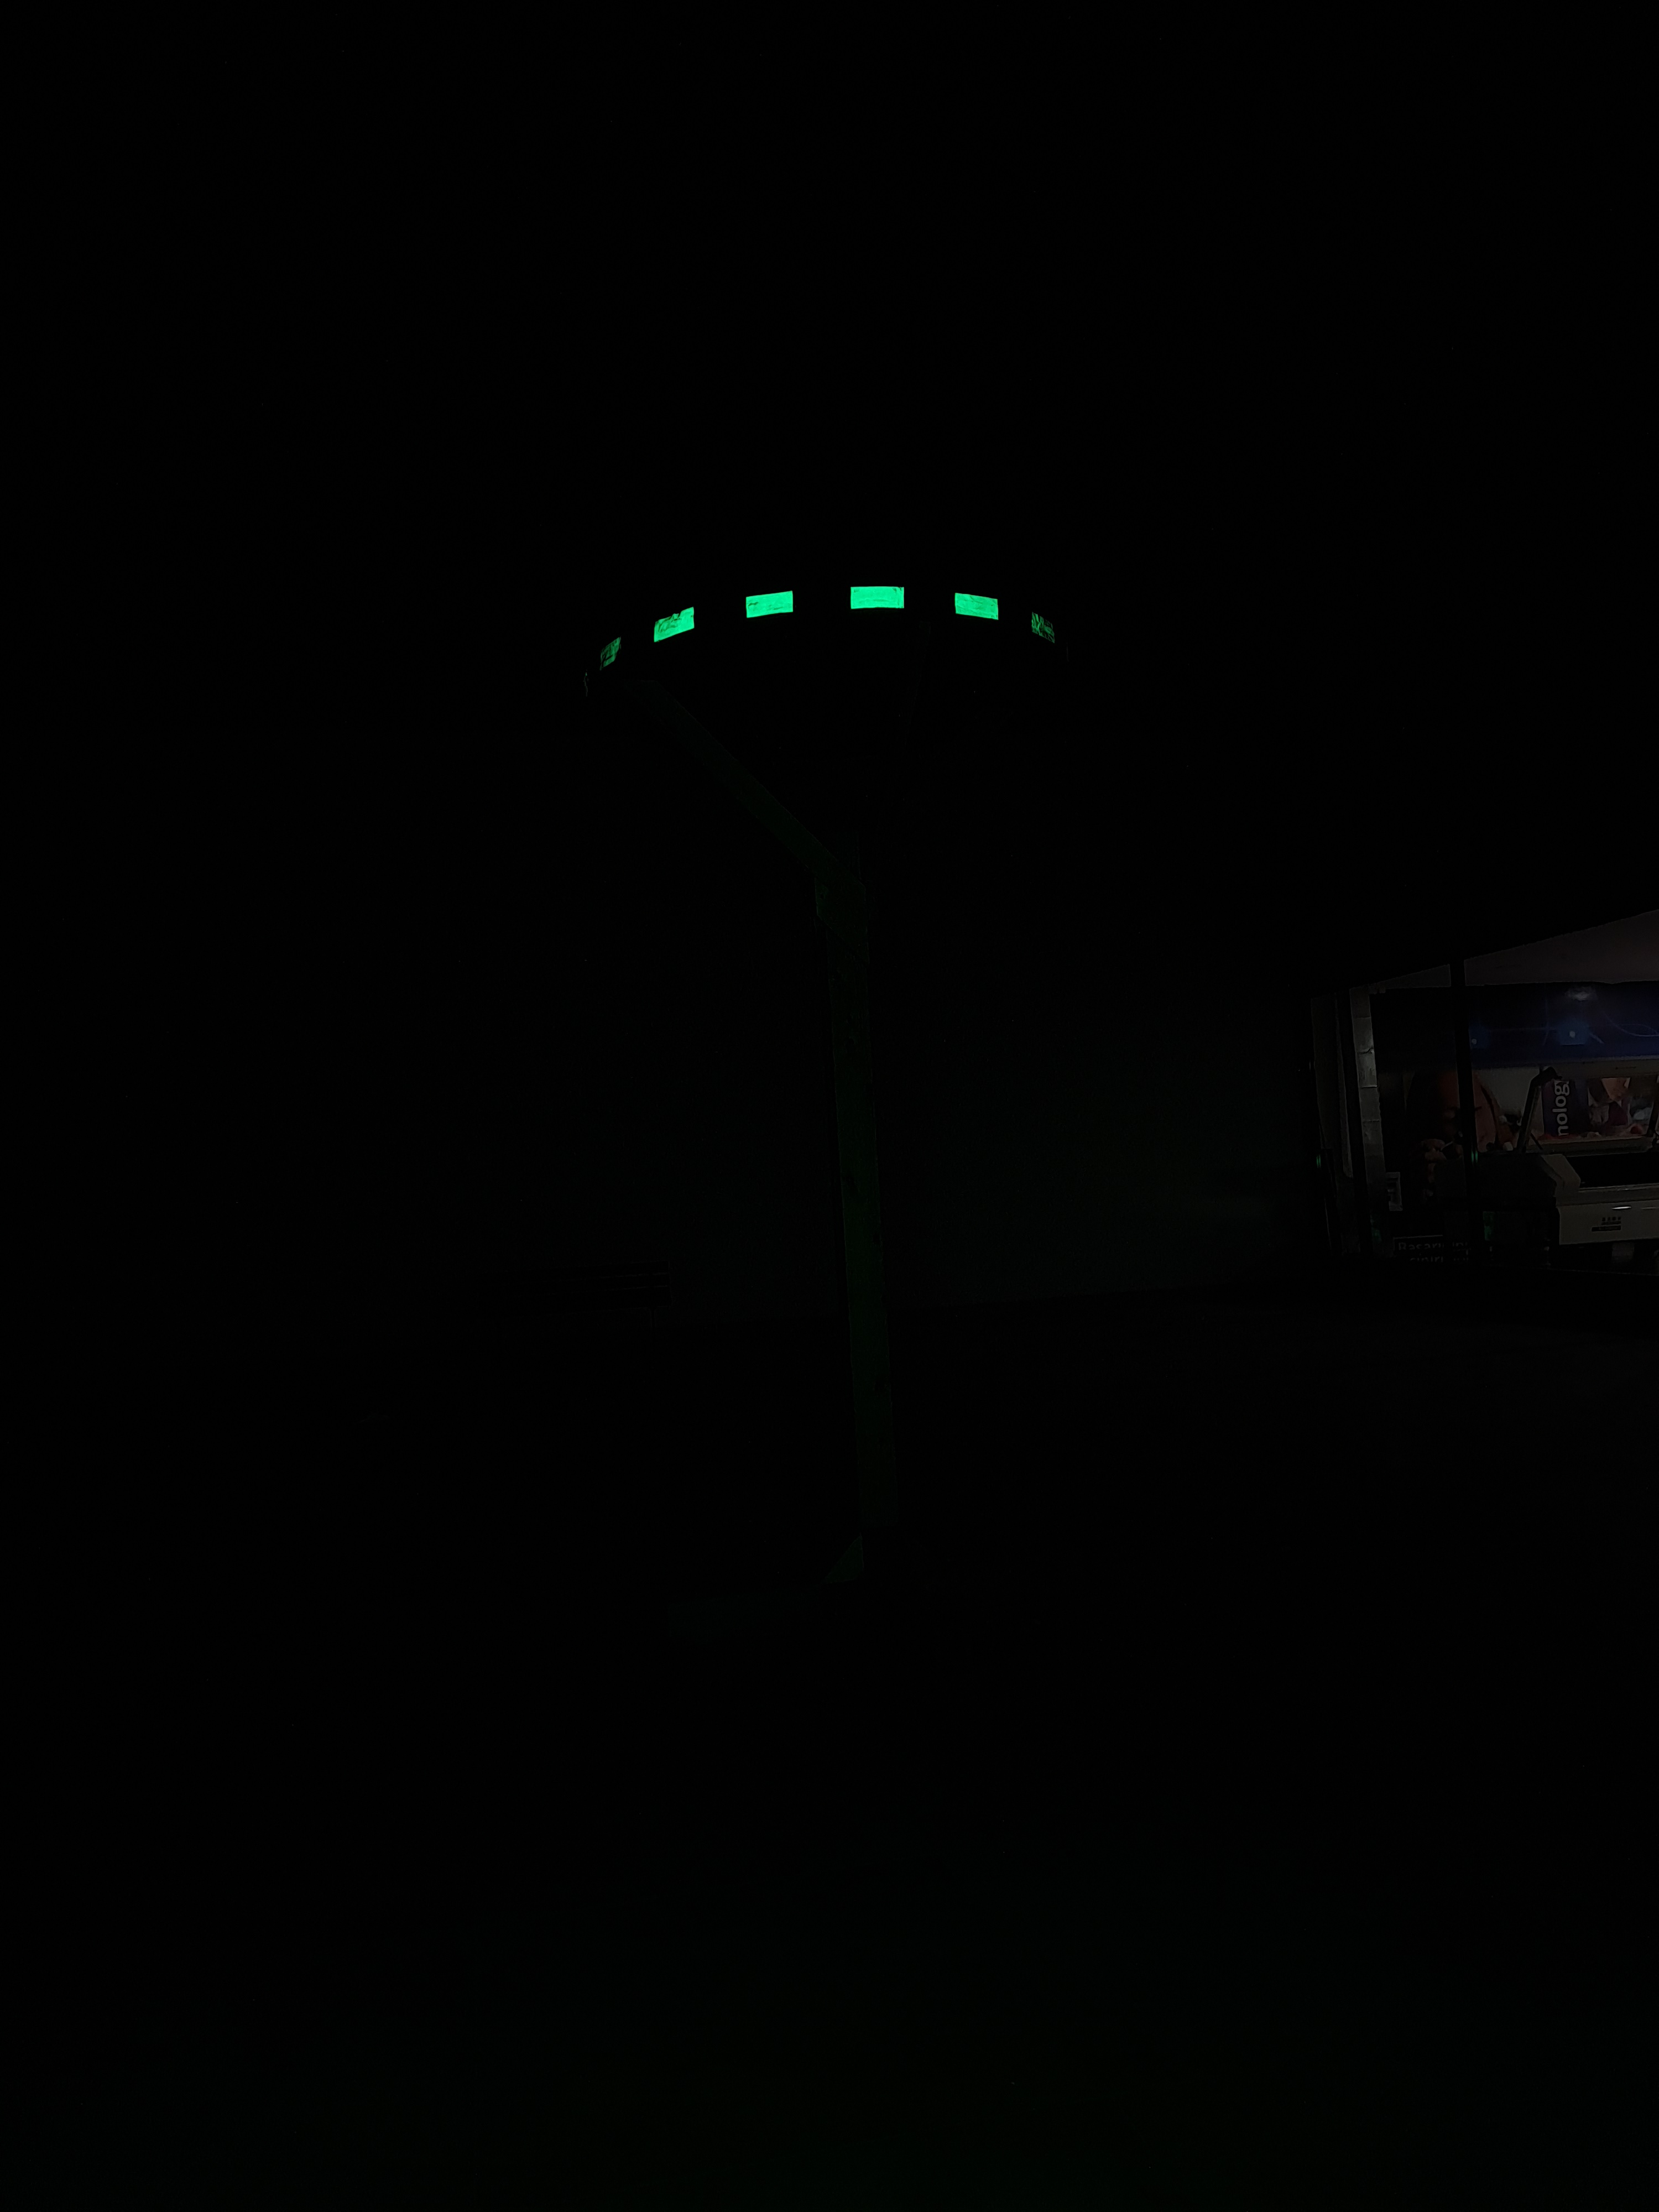hoop: (547, 570, 1075, 674)
